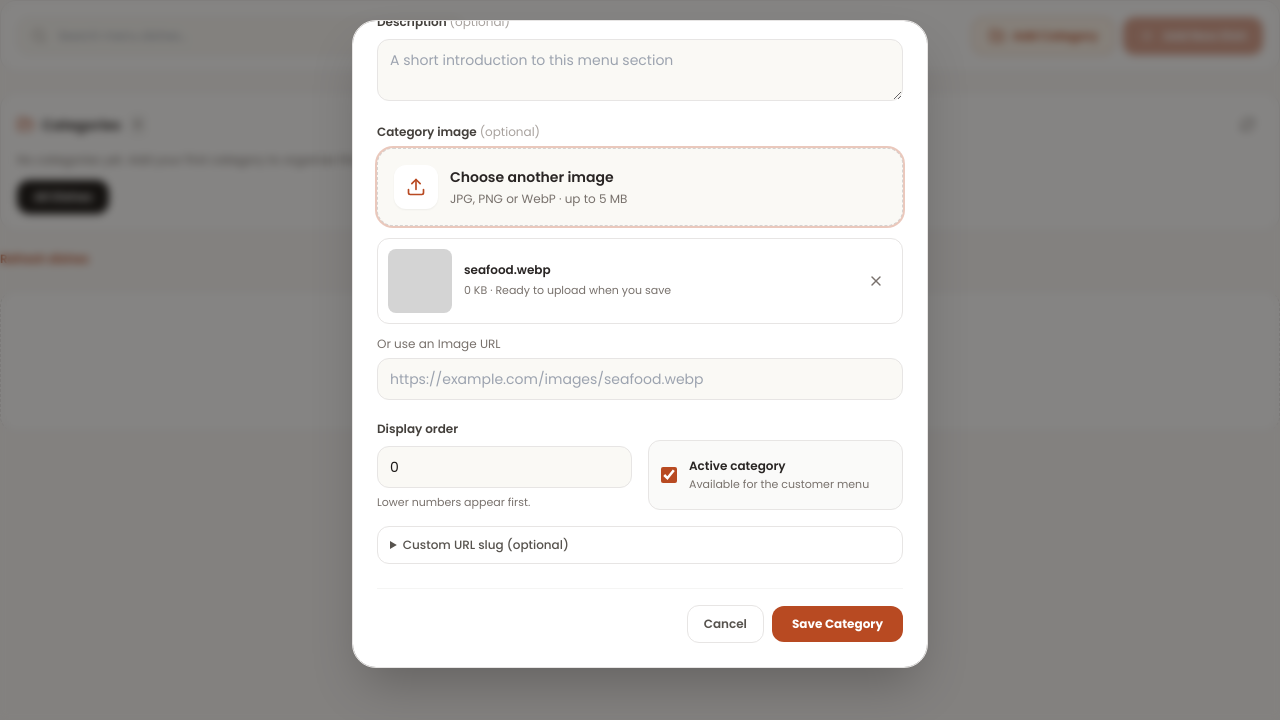
Scenario: menu category creation › previews a chosen file and displays the backend image after uploading it
The image size is (1280, 720).
Earlier steps of the test are not shown.
(page scrolled)
Expected: the text "seafood.webp" is shown, [464,261,551,278]
Click the button "Save Category" at coordinates (838, 624), box [772,606,903,642]
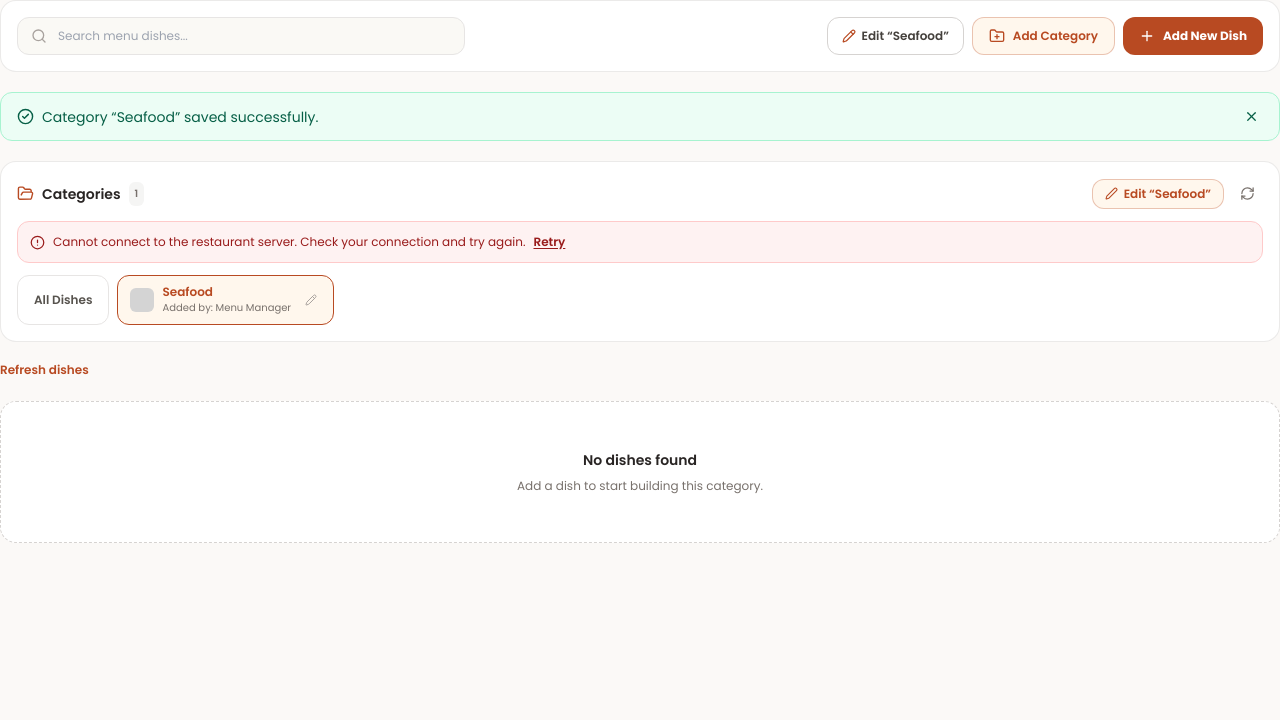
Now the text "Category “Seafood” saved successfully." is shown, box [17,106,318,126]
